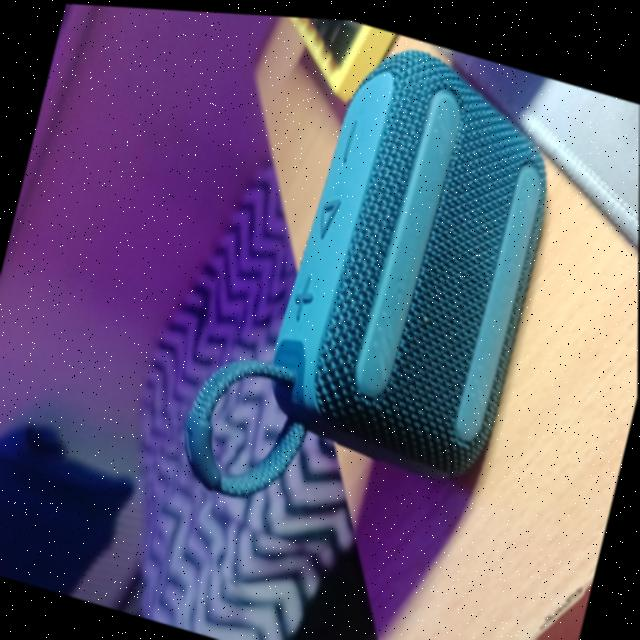column JBL: (165, 8, 580, 567)
